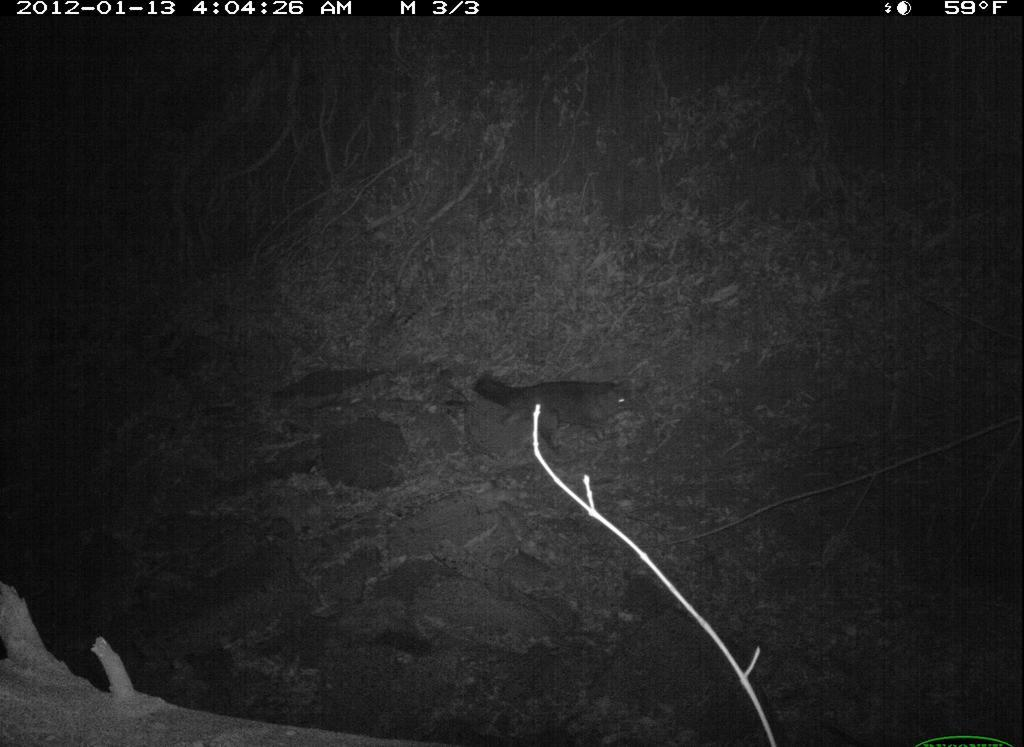cat: (456, 364, 662, 466)
